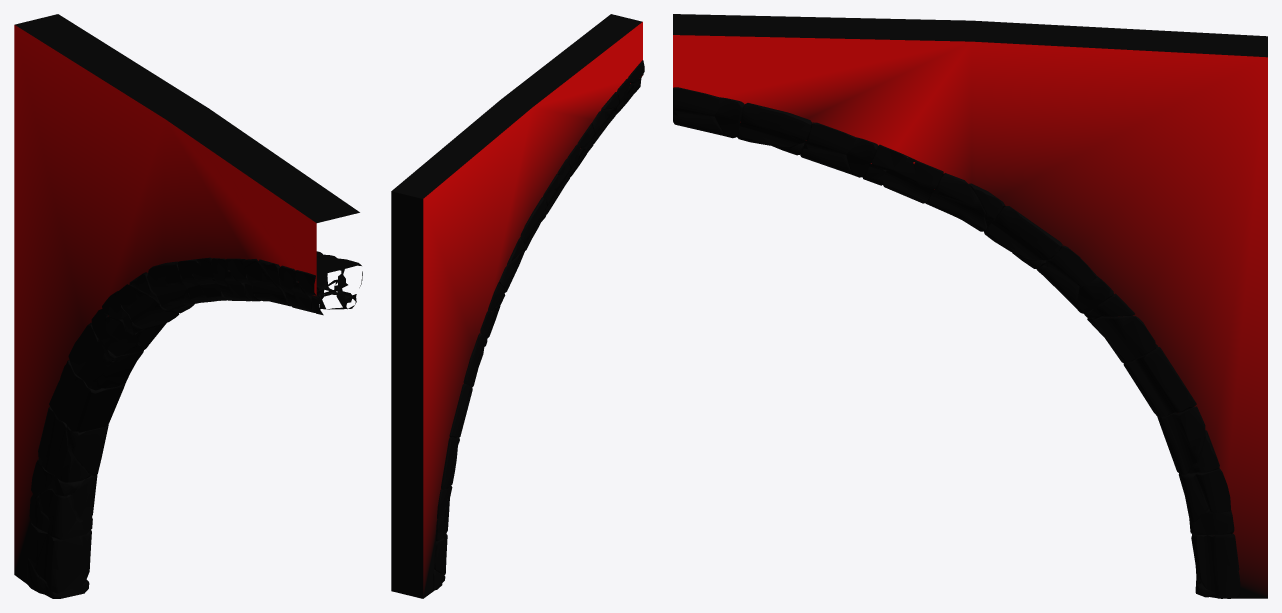
The model's file is SM_ArchBridge_AM_ArchStone_A_M_BrickStoneWall_Damage_M_StoneDamage.glb.
3 renders of one model, left to right at view 1: azimuth 30°, elevation 25°; view 2: azimuth 150°, elevation 25°; view 3: azimuth 270°, elevation 25°, orthographic. The views are drawn at different scales.
Visible parts, largest first — view 1: SM_ArchBridge_A_LOD0; view 2: SM_ArchBridge_A_LOD0; view 3: SM_ArchBridge_A_LOD0.
Part boxes in pixels (x1,y1,x2,y2): SM_ArchBridge_A_LOD0: [14, 14, 362, 598]; SM_ArchBridge_A_LOD0: [391, 14, 644, 598]; SM_ArchBridge_A_LOD0: [673, 14, 1267, 598].
Size of the model in its own units: 1.12 by 12.5 by 11.95.
